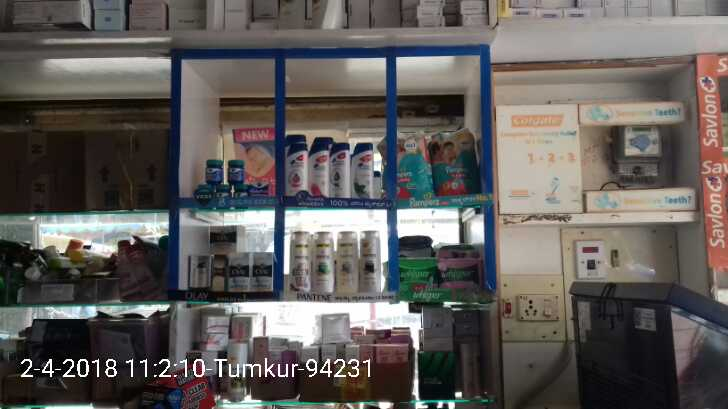vicks: (195, 154, 268, 196)
